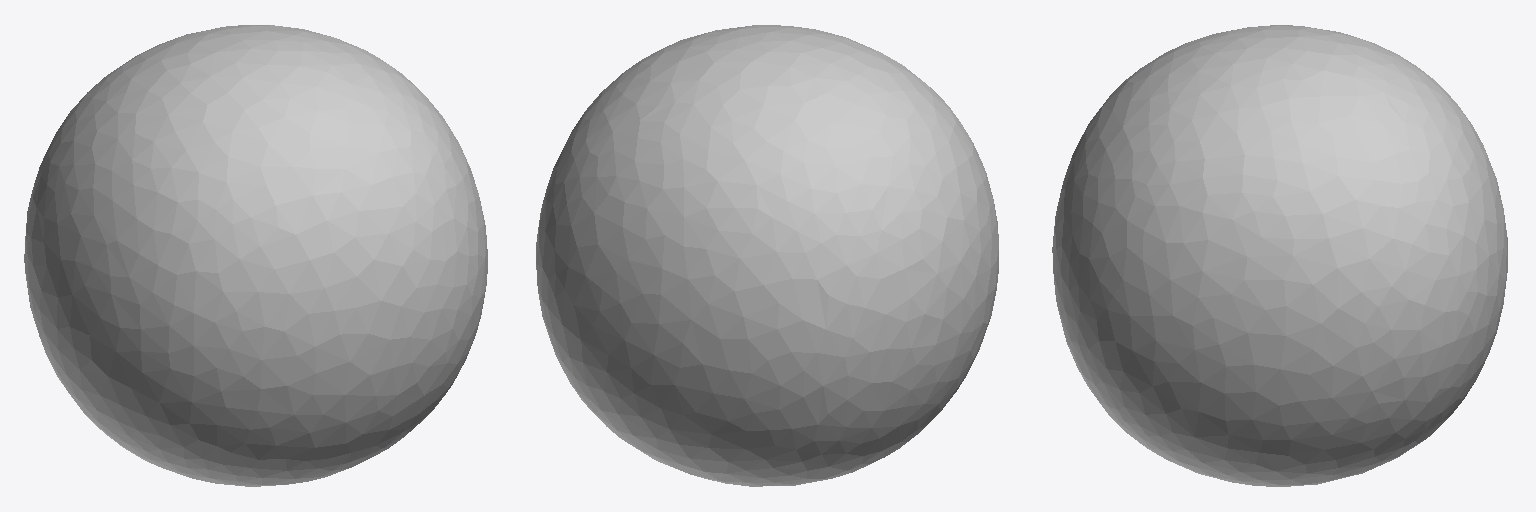
Rendered from sphereLow.obj.
3 views of the same model, side by side, from view 1: azimuth 30°, elevation 25°; view 2: azimuth 150°, elevation 25°; view 3: azimuth 270°, elevation 25° (orthographic).
Visible parts, largest first — view 1: Cube.001; view 2: Cube.001; view 3: Cube.001.
Boxes of the visible parts, x1=… form: Cube.001: x1=24, y1=25, x2=487, y2=486; Cube.001: x1=536, y1=25, x2=998, y2=486; Cube.001: x1=1052, y1=25, x2=1507, y2=486.
Size of the model in its own units: 1.66 by 1.66 by 1.66.